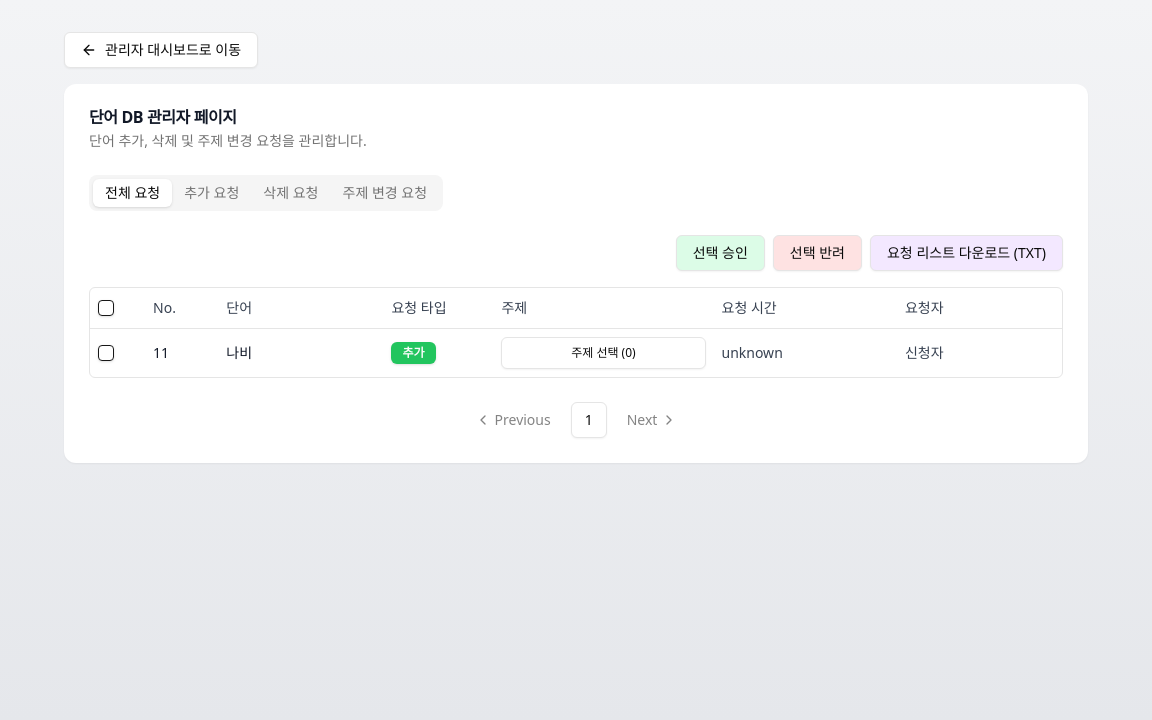
Test case: AdminRequestHome › unauthorized 실패는 선택을 유지하고 안전한 메시지만 보여준다
Click the checkbox named "나비 선택". click: [106, 352]
box: [98,344,114,360]
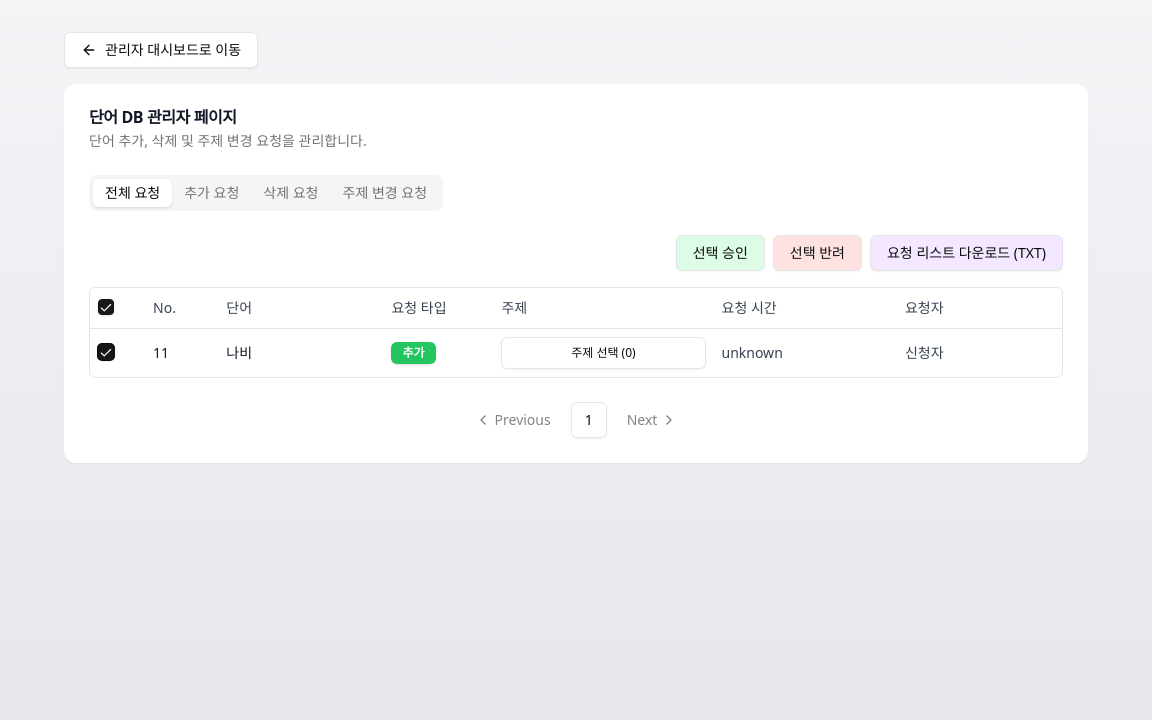
Click the button "선택 승인". click: [720, 253]
box: [676,235,765,271]
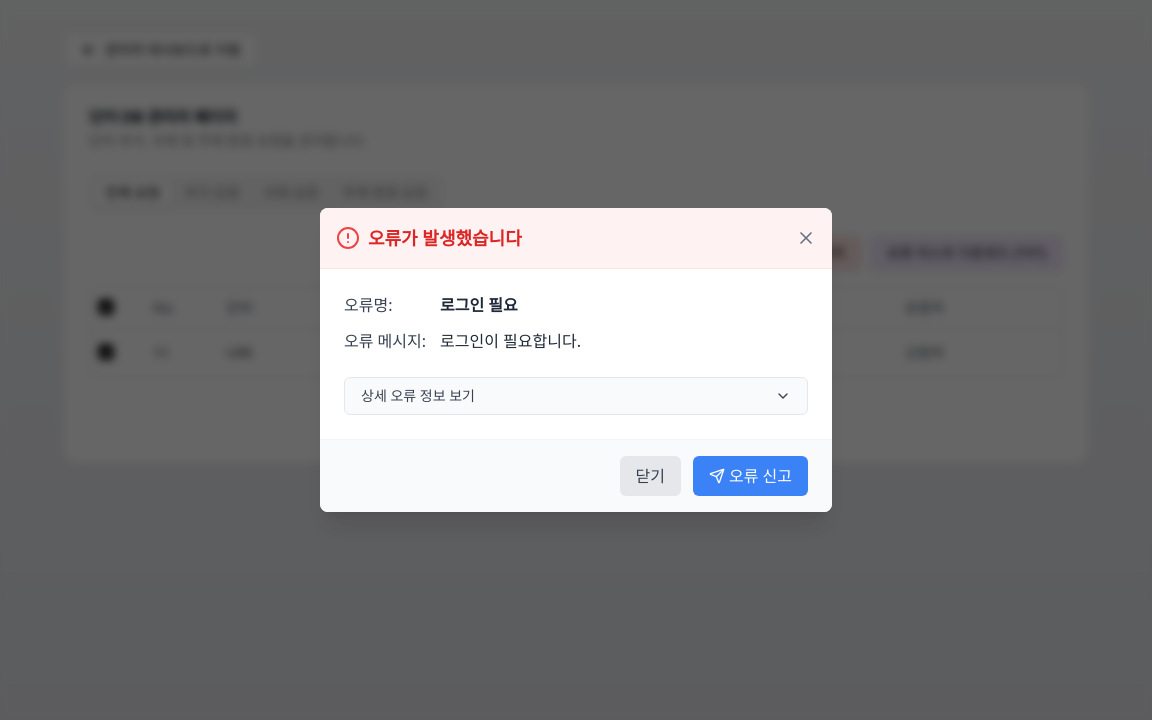
Now the checkbox named "나비 선택" is checked, box [98,344,114,360]
Now the text "로그인이 필요합니다." is shown, box [440,329,581,353]
